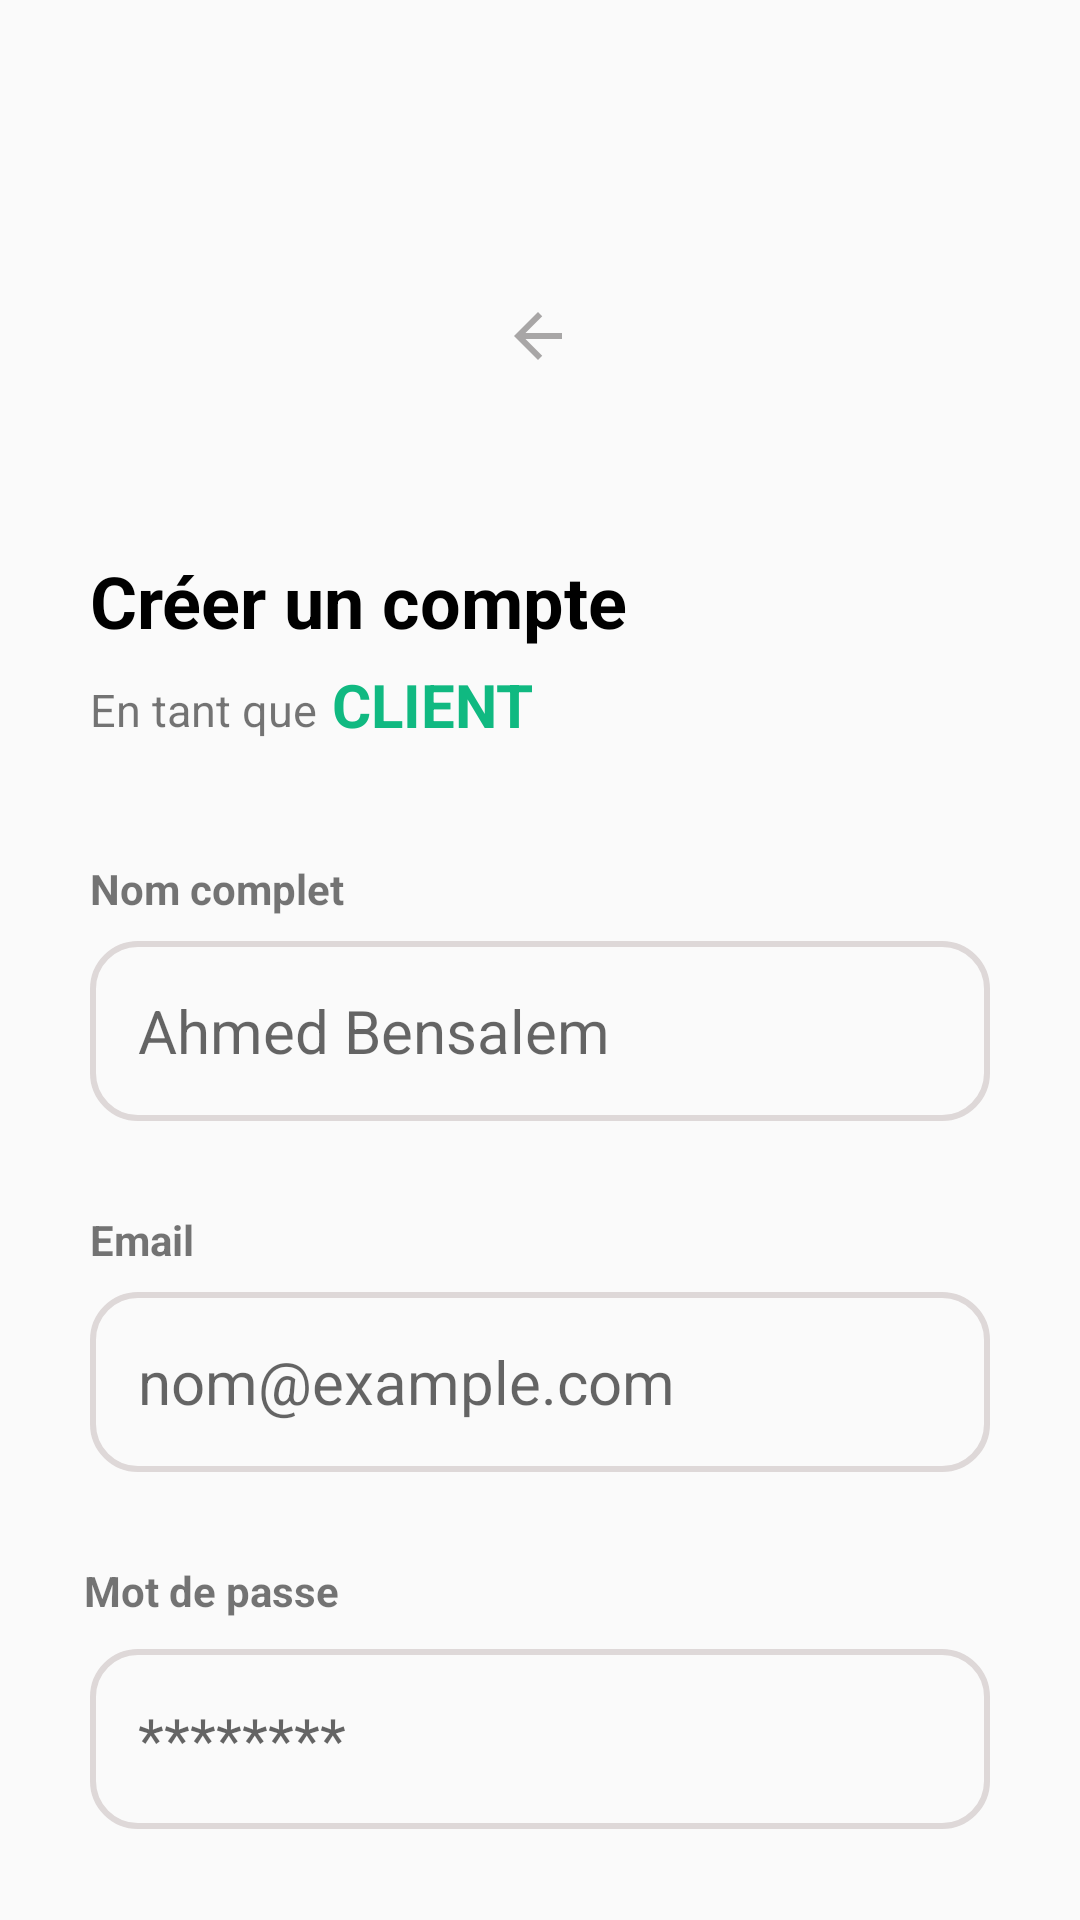

Locate icon controls on the screen. Image size 1080px×1920px, boxes as (x1, y1, x2, y2).
arrow back: (514, 312, 562, 360)
